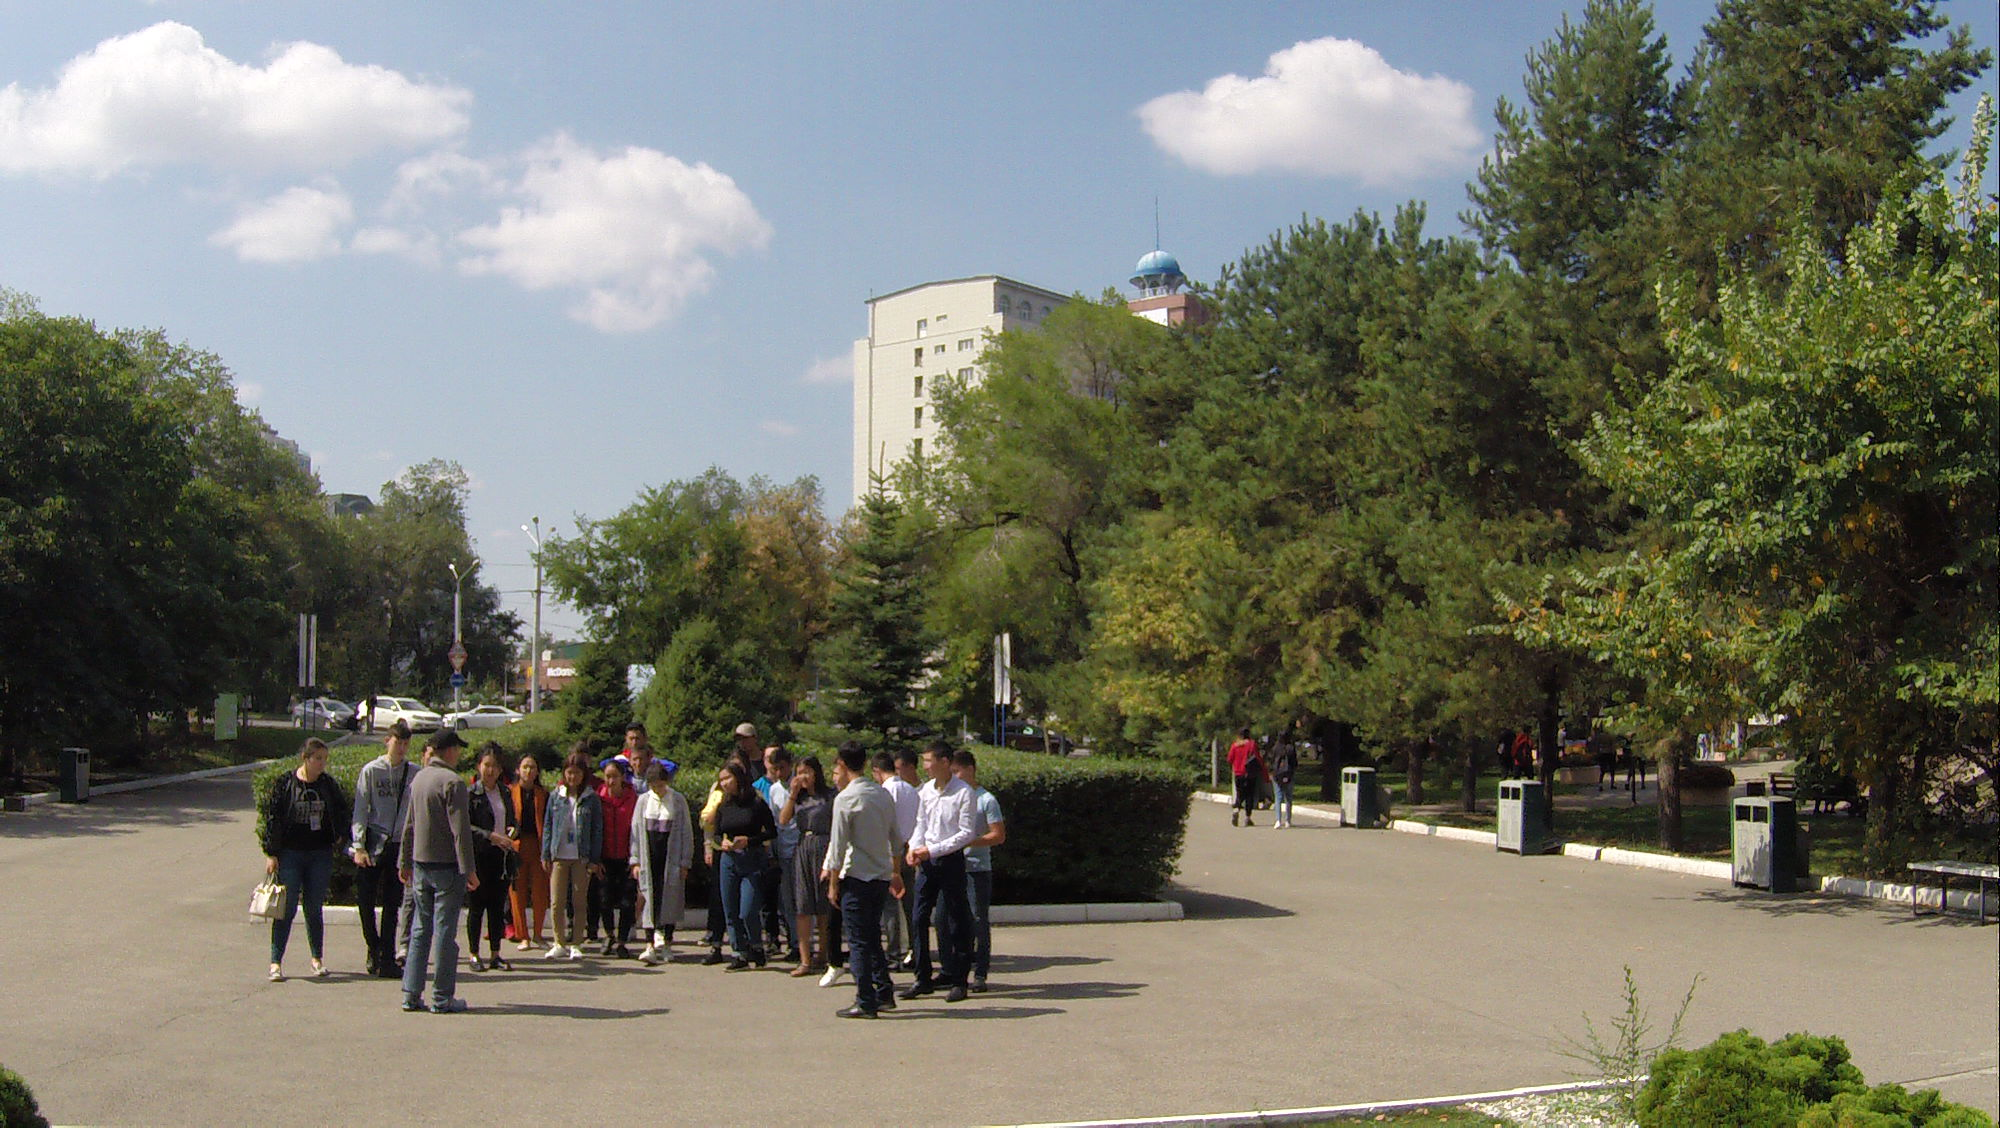person: (260, 739, 339, 991), (826, 753, 897, 1024), (422, 755, 478, 1005), (916, 745, 964, 997), (366, 718, 407, 985), (637, 764, 691, 960), (470, 747, 514, 983), (962, 764, 1005, 985), (714, 768, 760, 972), (553, 754, 595, 958), (593, 766, 632, 970), (510, 758, 547, 955), (1220, 728, 1257, 828), (1274, 730, 1307, 828)
